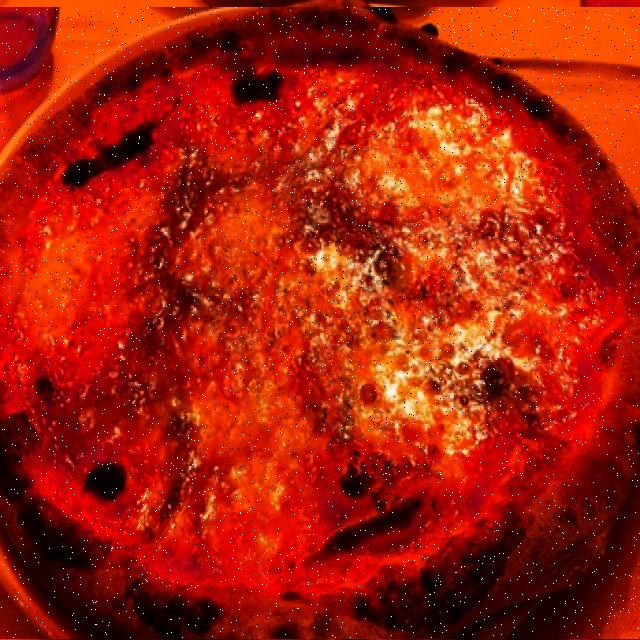Pizza: (0, 8, 640, 638)
